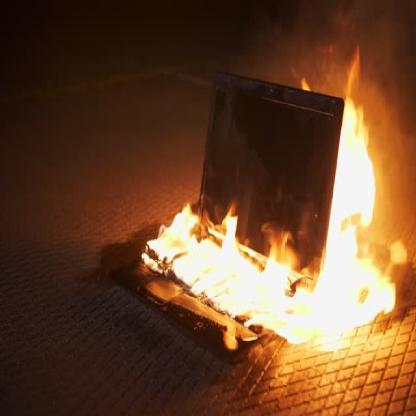fire: (144, 95, 401, 356)
